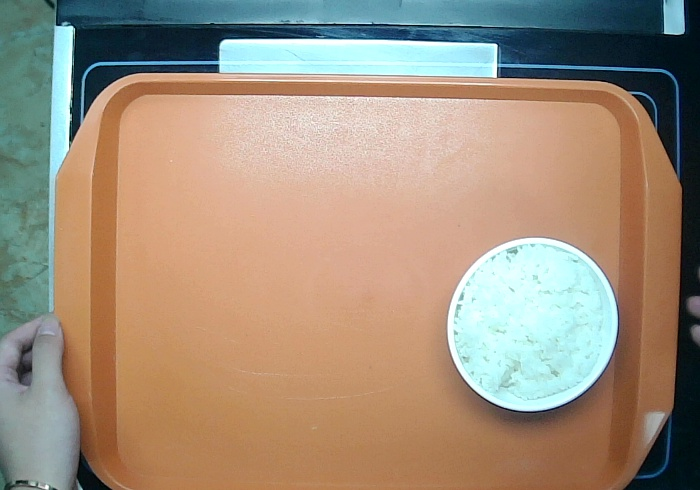HZYJPL-Fan_Wan: (441, 232, 622, 415)
